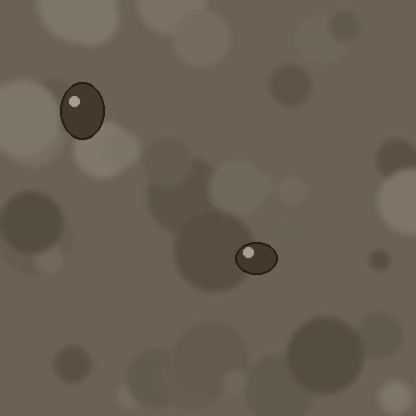gota: (60, 84, 104, 144), (235, 243, 277, 277)
